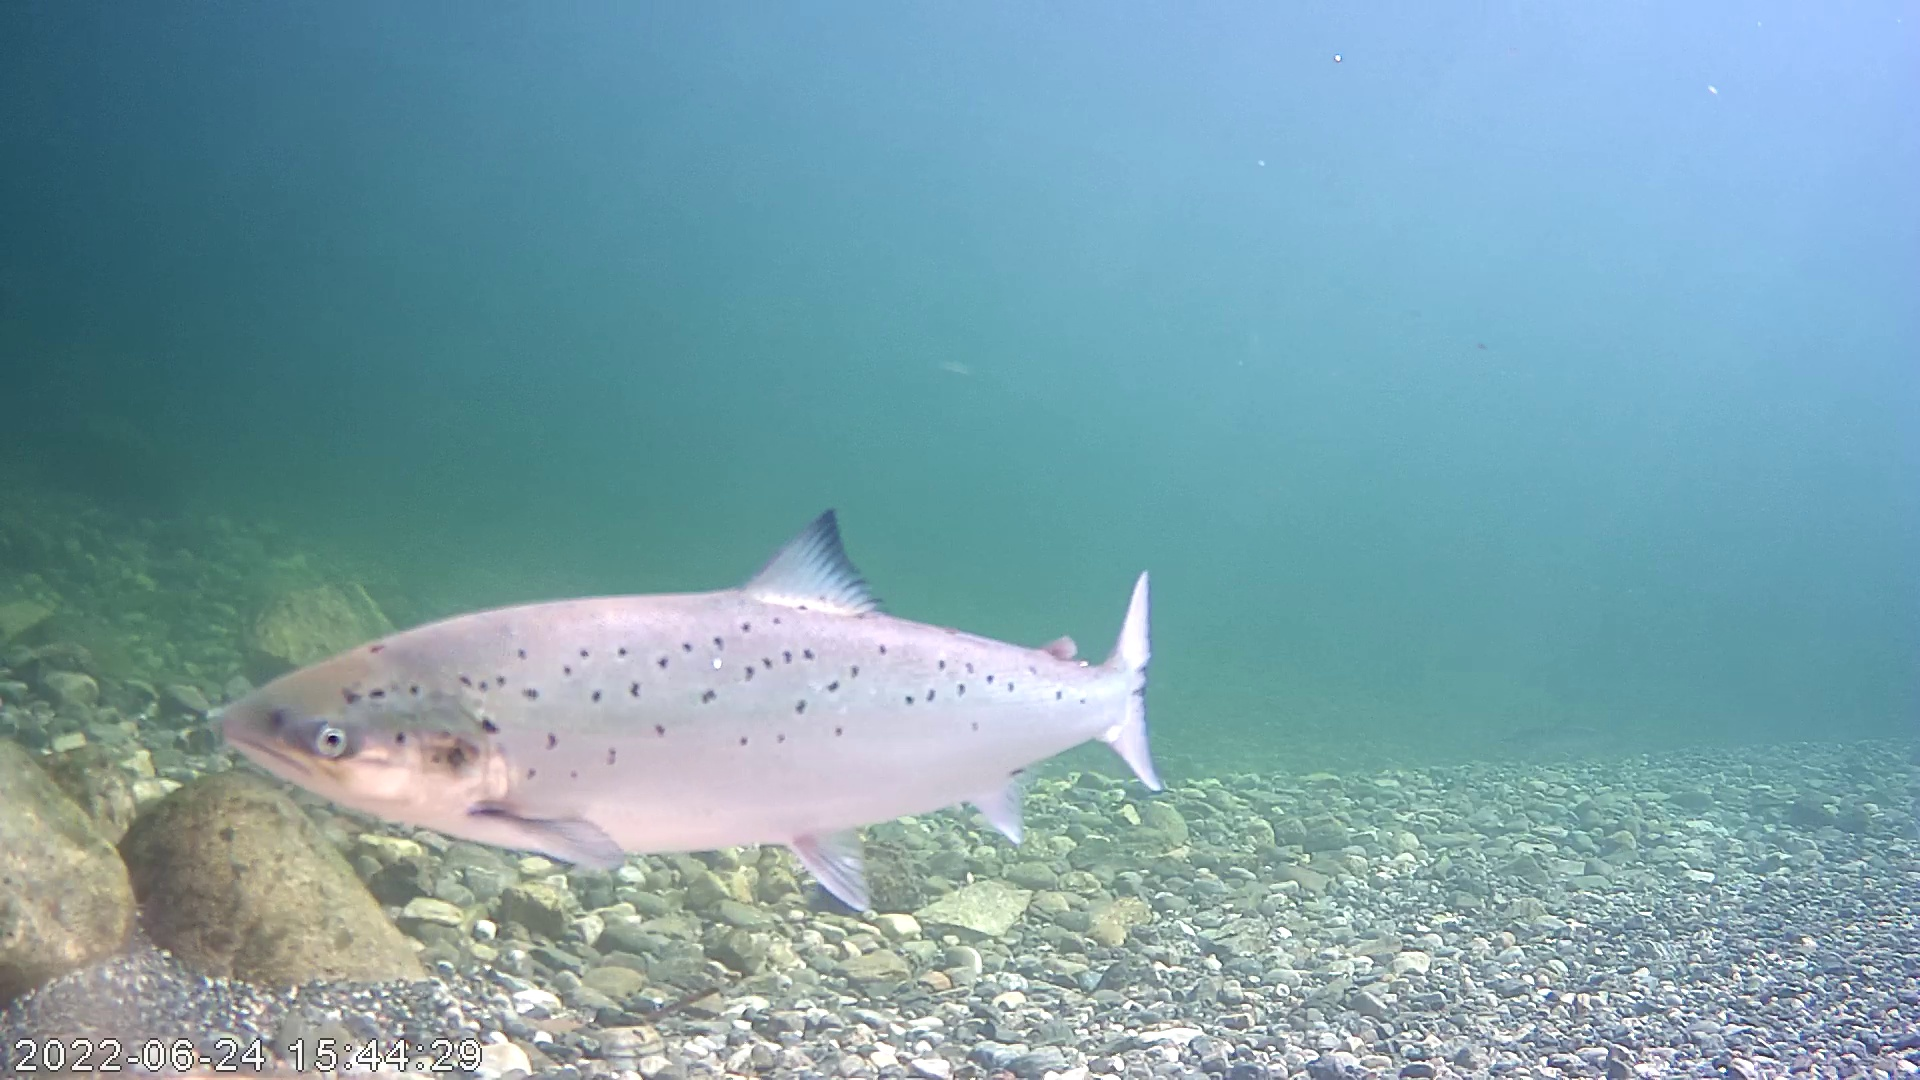salmon: (216, 502, 1170, 916)
